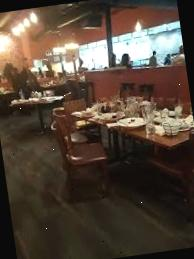Messy Table: (53, 80, 194, 175)
